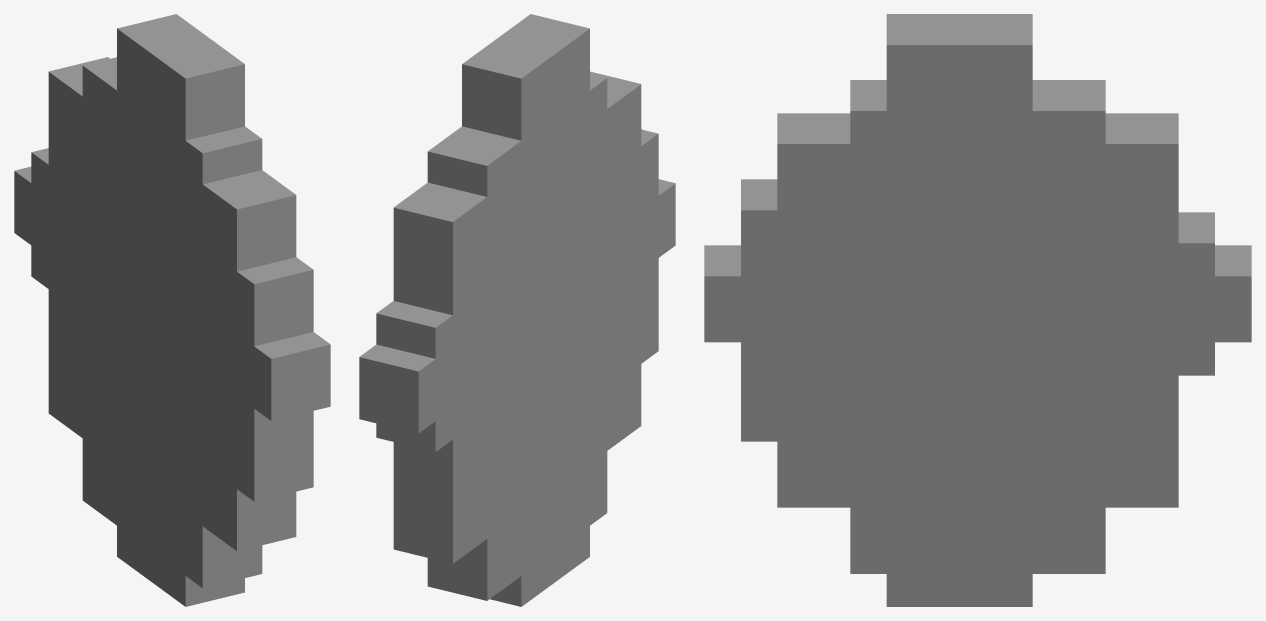
The model's file is lvl1-18.obj.
The picture shows the model from 3 angles, left to right: view 1: azimuth 30°, elevation 25°; view 2: azimuth 150°, elevation 25°; view 3: azimuth 270°, elevation 25°; orthographic projection. The views are drawn at different scales.
Bounding box in the file's own units: 0.2 × 1.7 × 1.5.
1 material, 1 textured.
